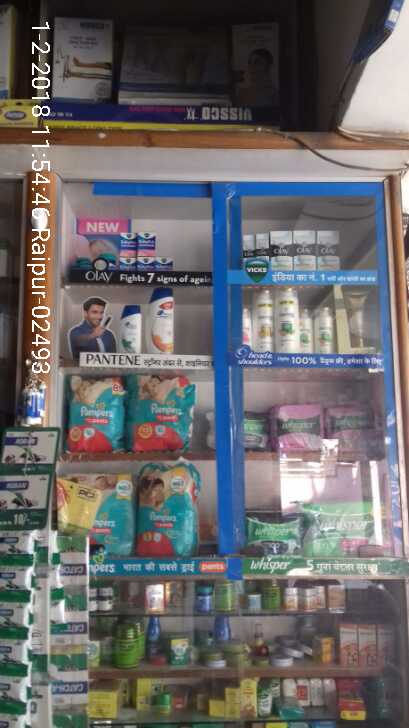beauty: (246, 229, 347, 272), (145, 283, 178, 358), (300, 306, 339, 353), (115, 296, 143, 354), (276, 287, 300, 351), (252, 291, 277, 351)
pharmacy: (130, 461, 200, 561), (54, 476, 132, 554), (125, 369, 196, 452), (305, 502, 395, 563), (61, 380, 127, 463), (114, 225, 182, 273), (268, 397, 328, 448), (244, 507, 303, 557), (329, 393, 381, 444)
